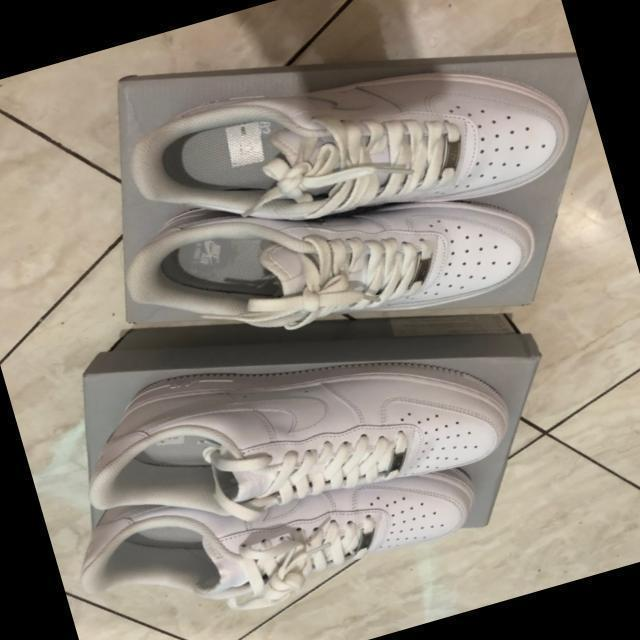nike original air force: (111, 0, 587, 294), (61, 286, 530, 574), (104, 111, 556, 409), (60, 422, 494, 640)
